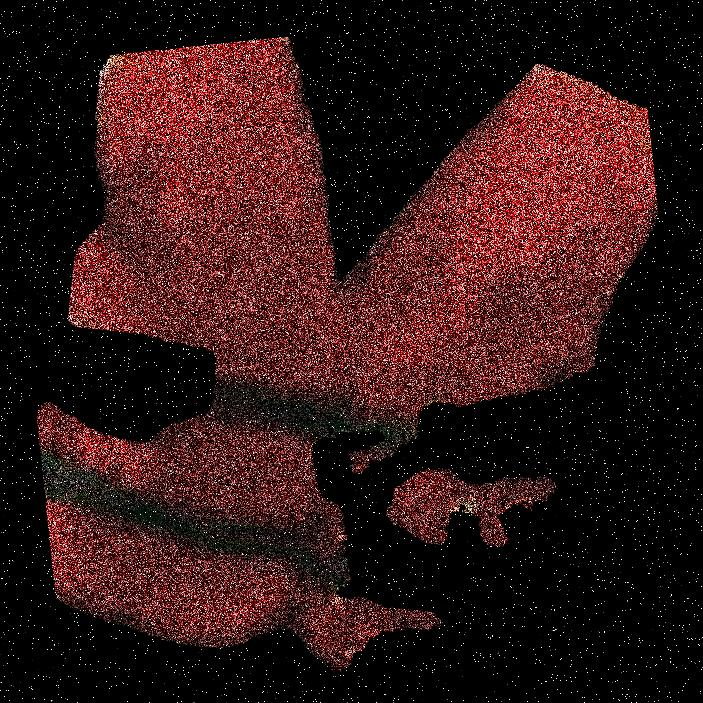Colete: (466, 0, 546, 702)
